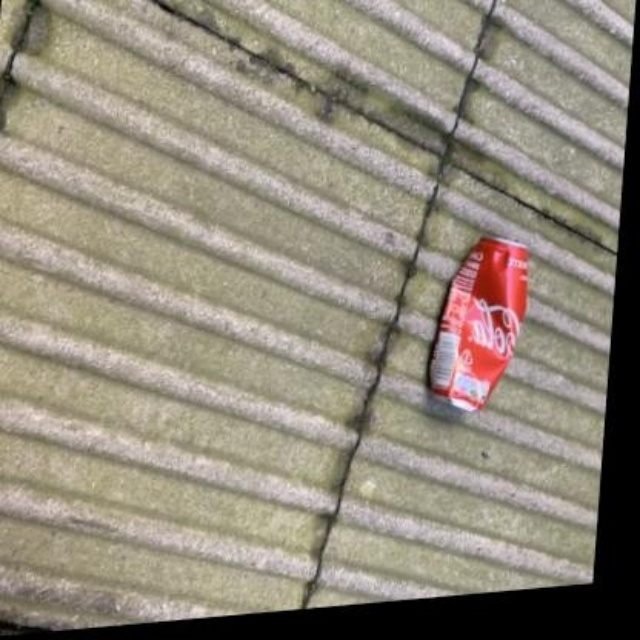trash: (428, 237, 528, 411)
